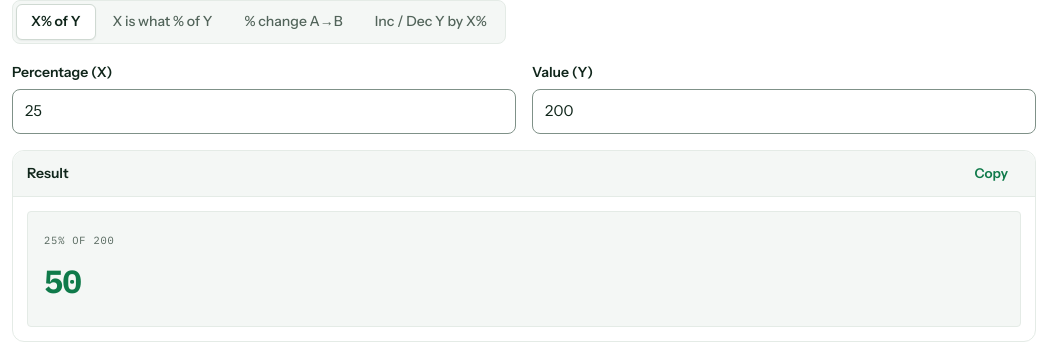
Test: PercentageCalculator › mode "X is what % of Y": 50 is 25% of 200
Click the tab "X is what % of Y" at (162, 22), box [98,4,227,40]
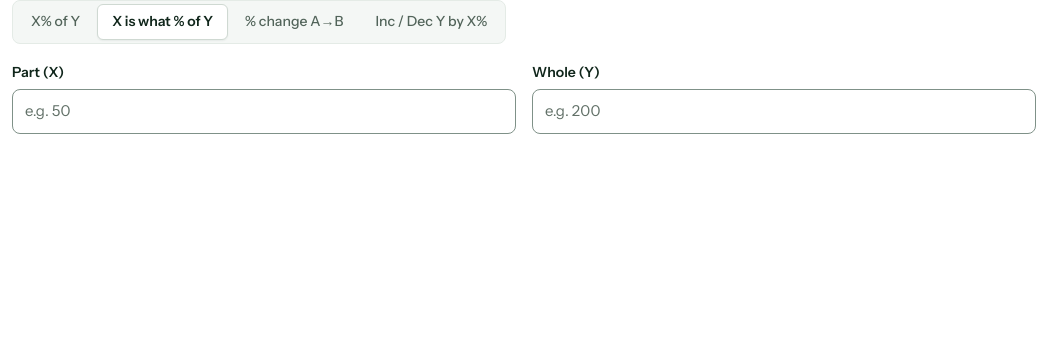
Type "50" into the number field labelled "Part (X)" at (264, 112), box [12,89,516,134]
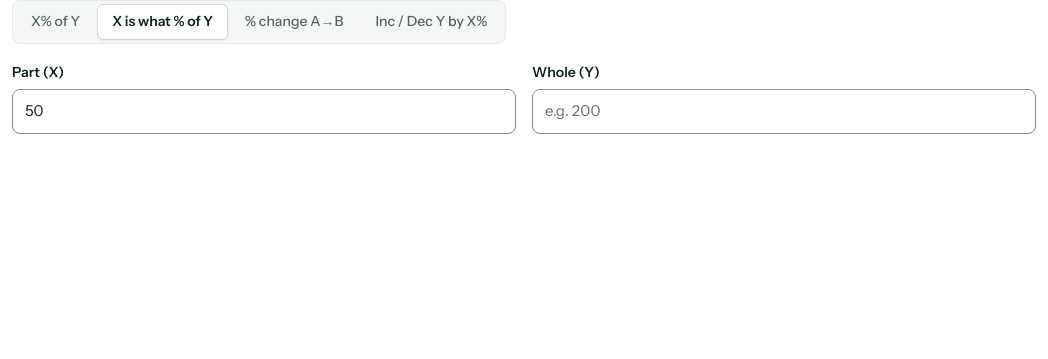
Type "200" into the number field labelled "Whole (Y)" at (784, 112), box [532,89,1036,134]
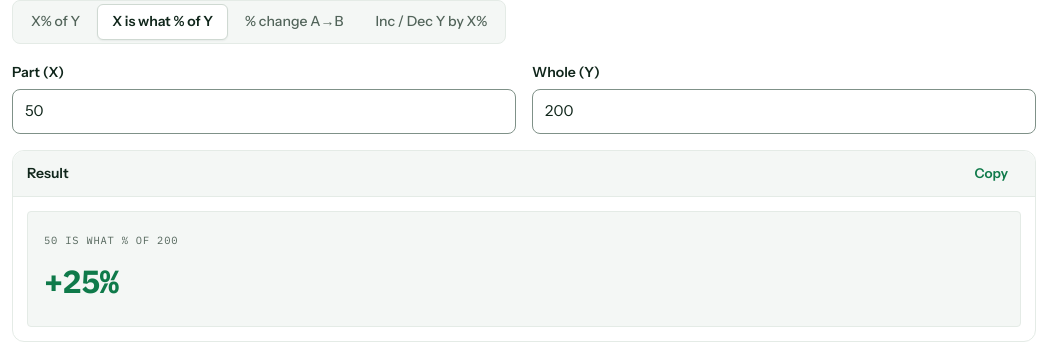
Check: the text "+25%" is shown, box [44,260,118,302]
